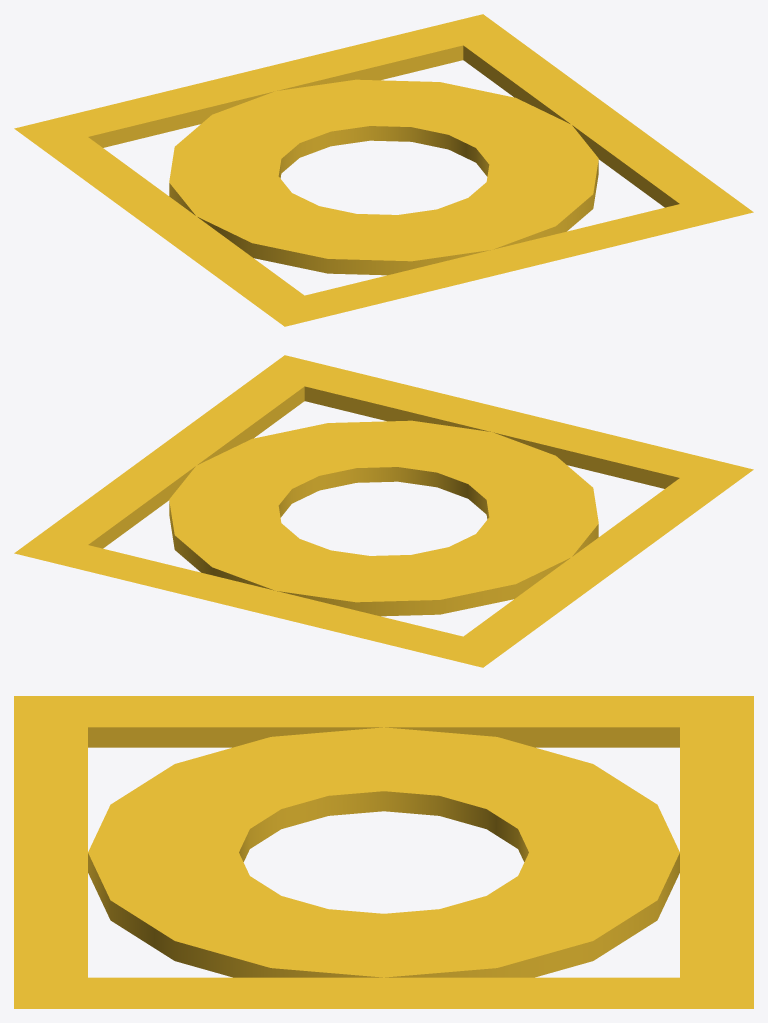
The model's file is Mesh_GridYellow.fbx.
3 views of the same model, one above another, from view 1: azimuth 30°, elevation 25°; view 2: azimuth 150°, elevation 25°; view 3: azimuth 270°, elevation 25° (orthographic). The views are drawn at different scales.
Visible parts, largest first — view 1: Mesh_GridYellow; view 2: Mesh_GridYellow; view 3: Mesh_GridYellow.
Part boxes in pixels (left/top/right/bottom): Mesh_GridYellow: left=14, top=14, right=753, bottom=326; Mesh_GridYellow: left=14, top=355, right=753, bottom=667; Mesh_GridYellow: left=14, top=696, right=753, bottom=1008.
Size of the model in its own units: 1 by 1 by 0.03.
